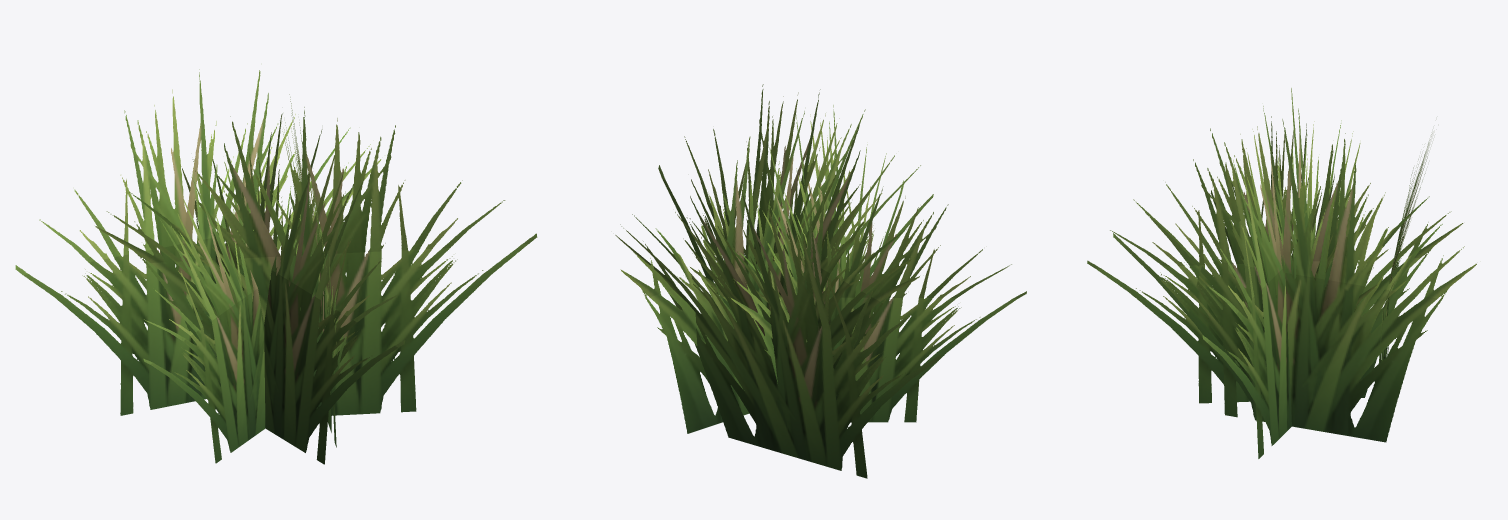
File: grass_a.glb
3 renders of one model, left to right at view 1: azimuth 30°, elevation 25°; view 2: azimuth 150°, elevation 25°; view 3: azimuth 270°, elevation 25°, orthographic. The views are drawn at different scales.
Parts seen in each view (by area): view 1: grass_a_mesh; view 2: grass_a_mesh; view 3: grass_a_mesh.
Boxes of the visible parts, x1,y1,x2,y2 form: grass_a_mesh: (15, 69, 537, 464); grass_a_mesh: (615, 84, 1026, 478); grass_a_mesh: (1087, 88, 1476, 458).
Size of the model in its own units: 0.6413 by 0.4682 by 0.5619.
Materials: 1 (1 with a texture image).
